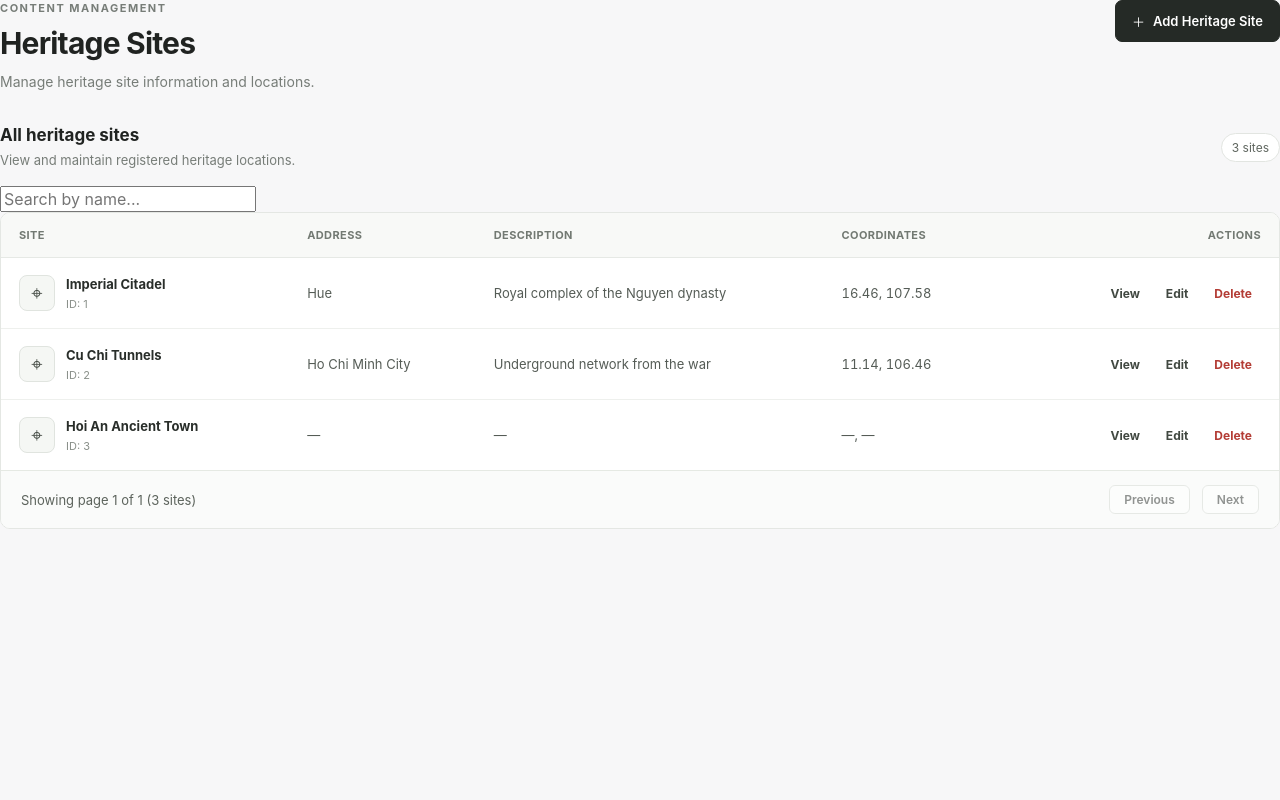
Scenario: HeritageSitesPage — CRUD request behavior › edits a site with the correct PUT path/body and refreshes the list
Check: the text "Imperial Citadel" is shown, box [66, 276, 166, 292]
Click the button with aria-label "edit imperial citadel" at (1177, 293), box [1157, 279, 1197, 308]
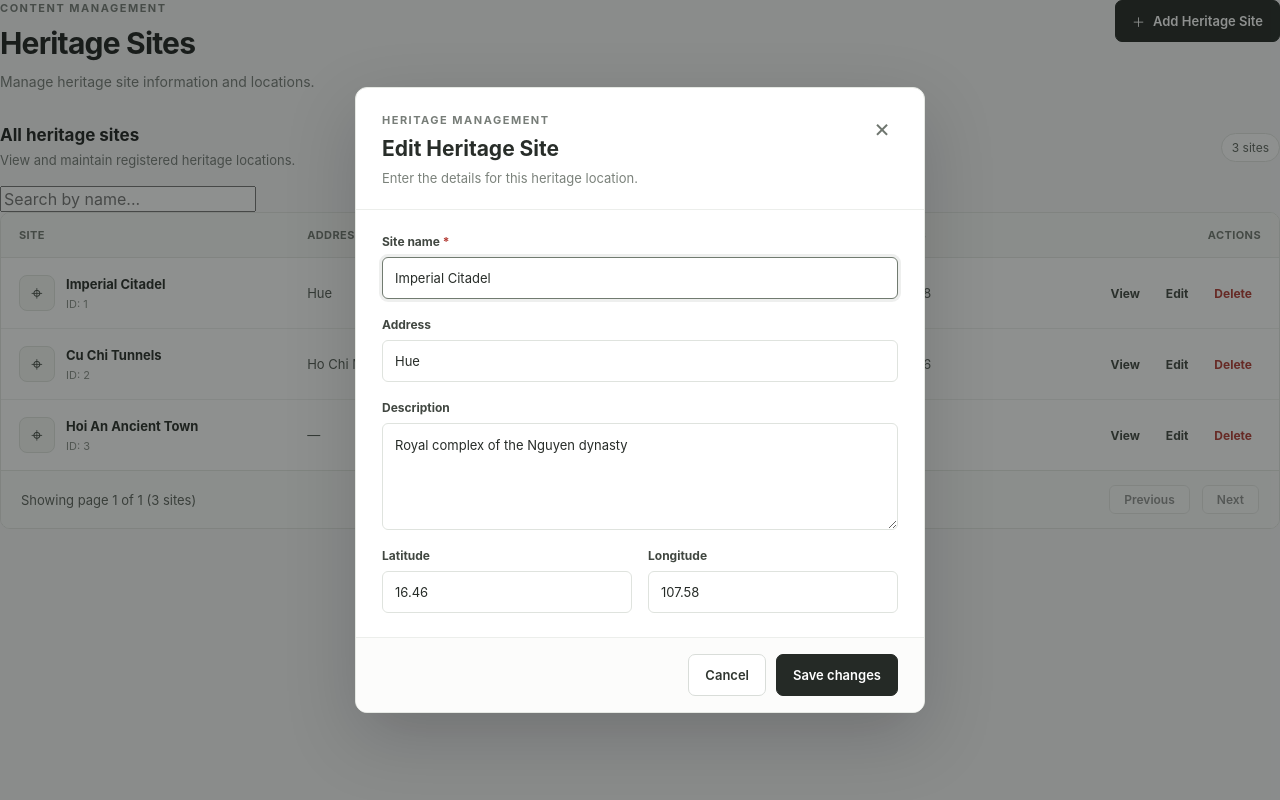
Replace the text in the field labelled "Site name *" with "Imperial City" at (640, 278), box [382, 257, 898, 299]
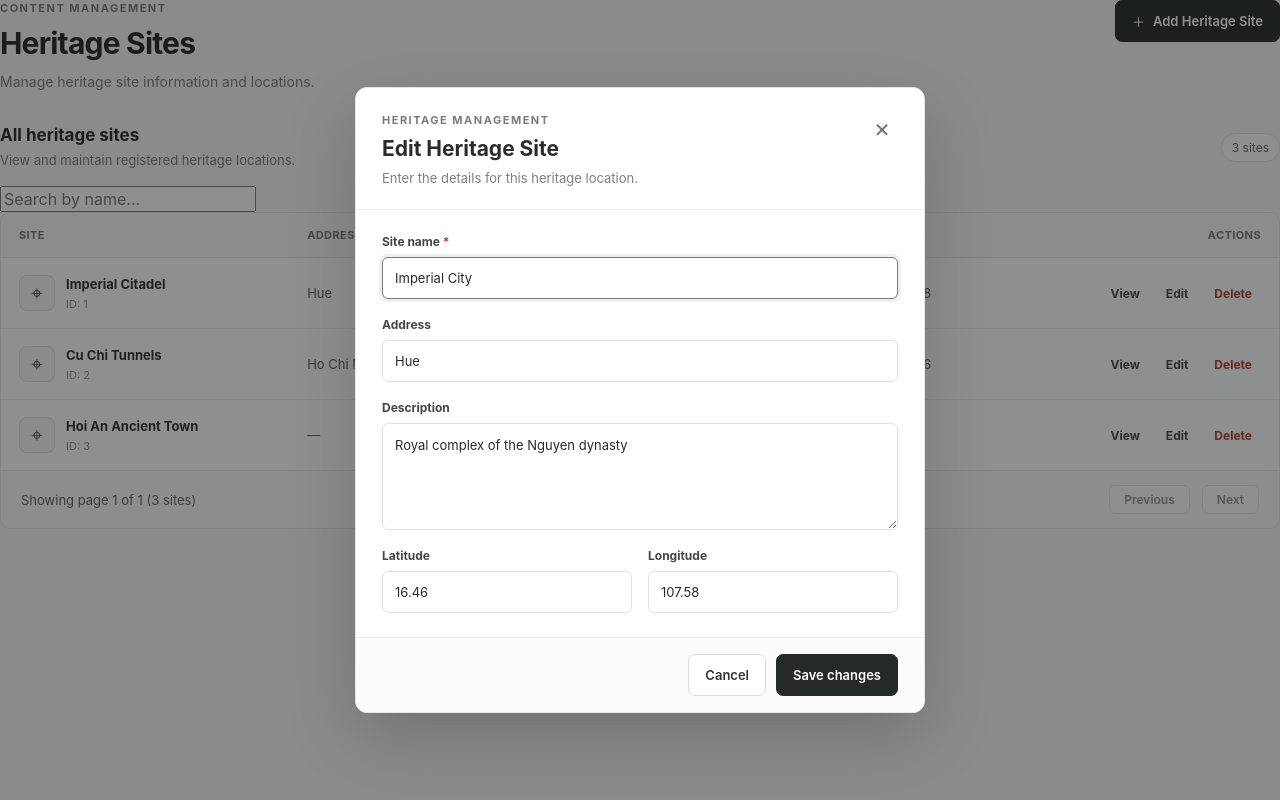
Replace the text in the number field labelled "Latitude" with "16.4698" at (507, 592), box [382, 571, 632, 613]
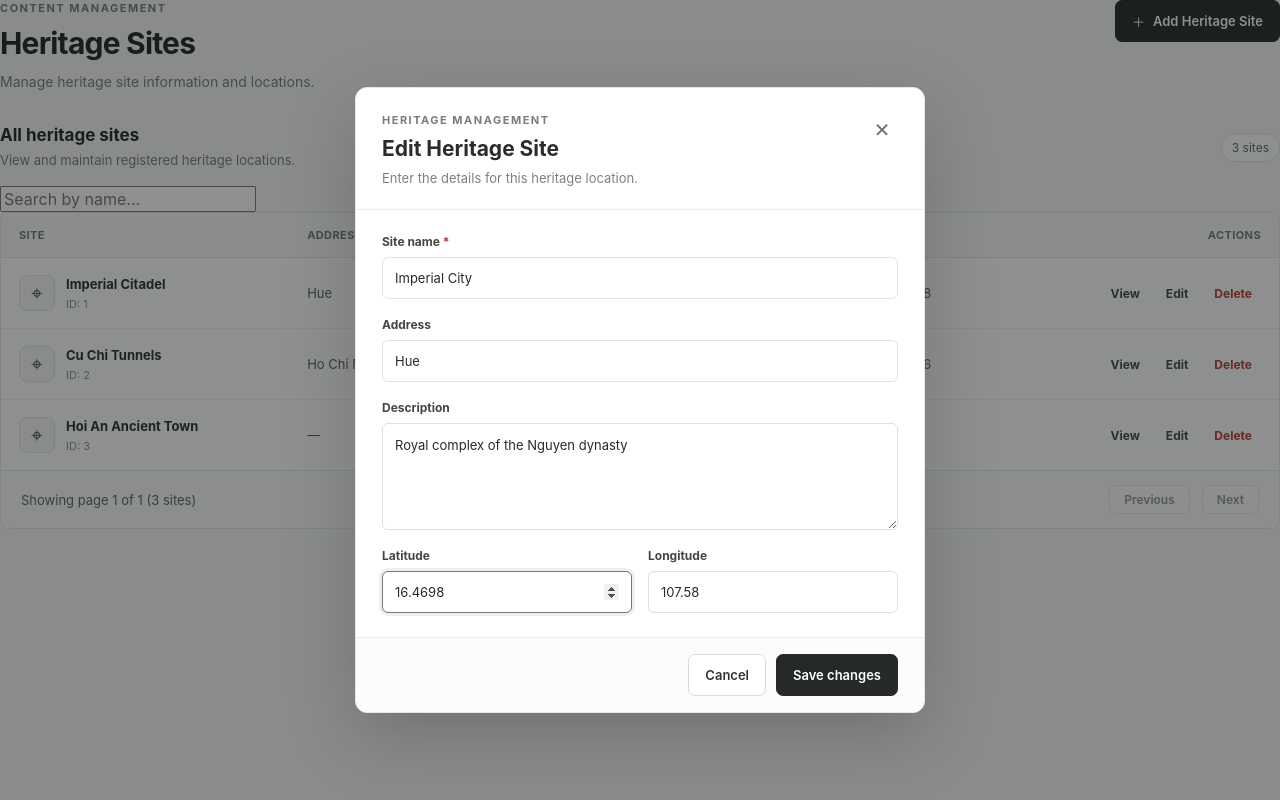
Click the button "Save changes" at (837, 675), box [776, 654, 898, 696]
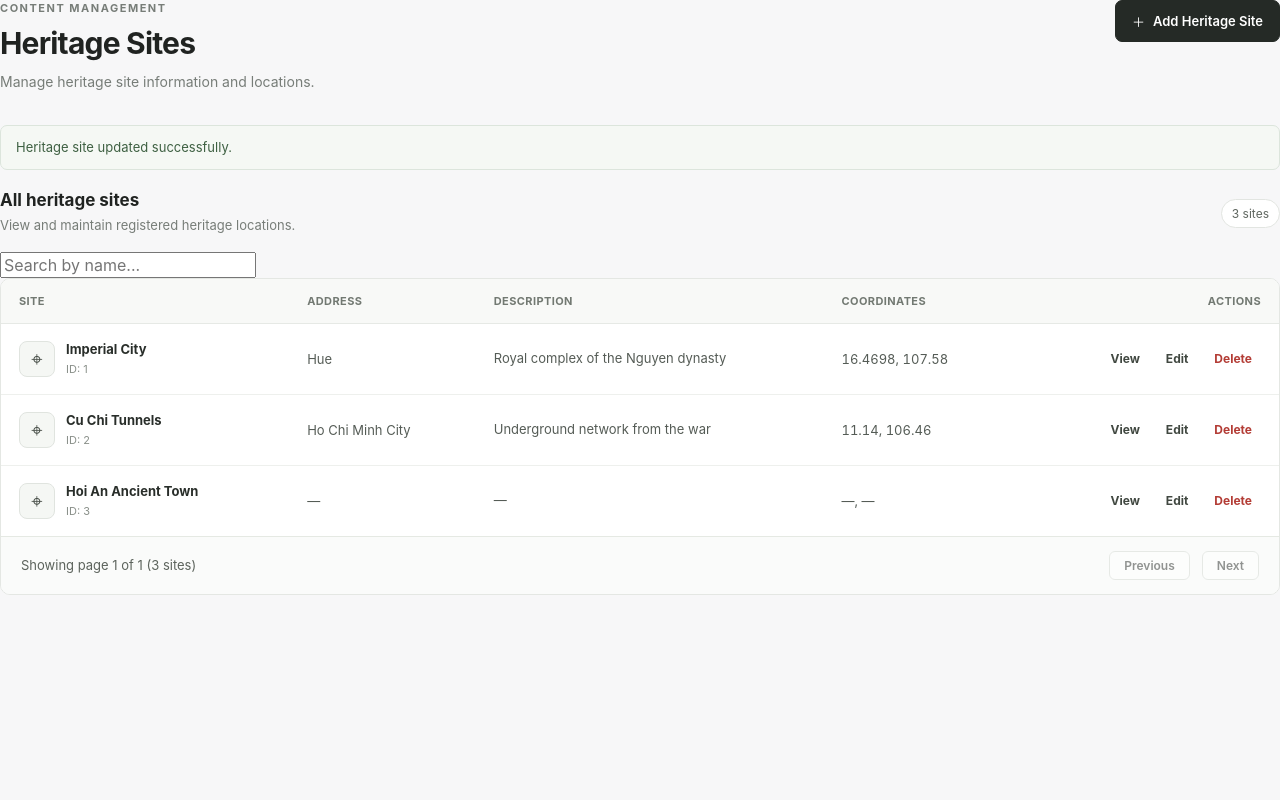
Check: the text "Heritage site updated successfully." is shown, box [0, 125, 1279, 170]
Check: the text "Imperial City" is shown, box [66, 341, 146, 357]
